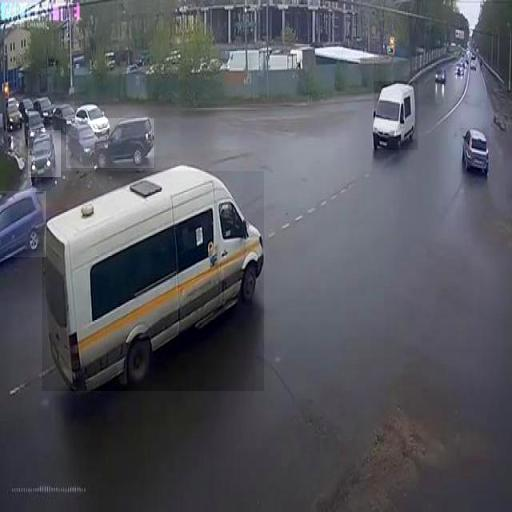小汽车: (42, 171, 264, 391), (374, 81, 418, 150), (0, 191, 46, 257), (28, 130, 61, 177), (460, 128, 489, 174)
小汽车撞小汽车: (66, 118, 154, 168)
